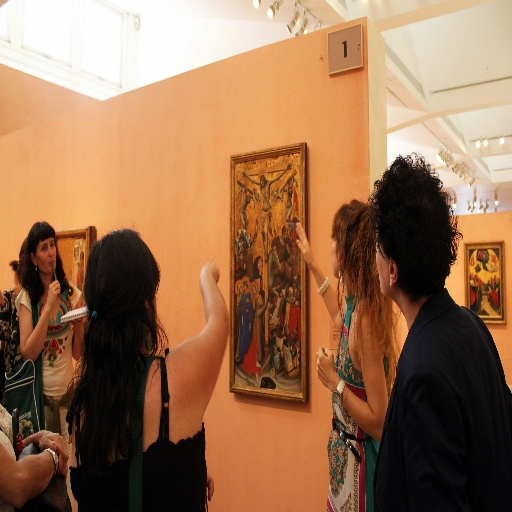hand: (189, 253, 224, 342), (37, 430, 68, 473), (313, 344, 336, 390), (294, 221, 312, 268), (45, 277, 61, 309), (205, 472, 213, 503), (70, 318, 87, 330), (61, 463, 69, 481)
